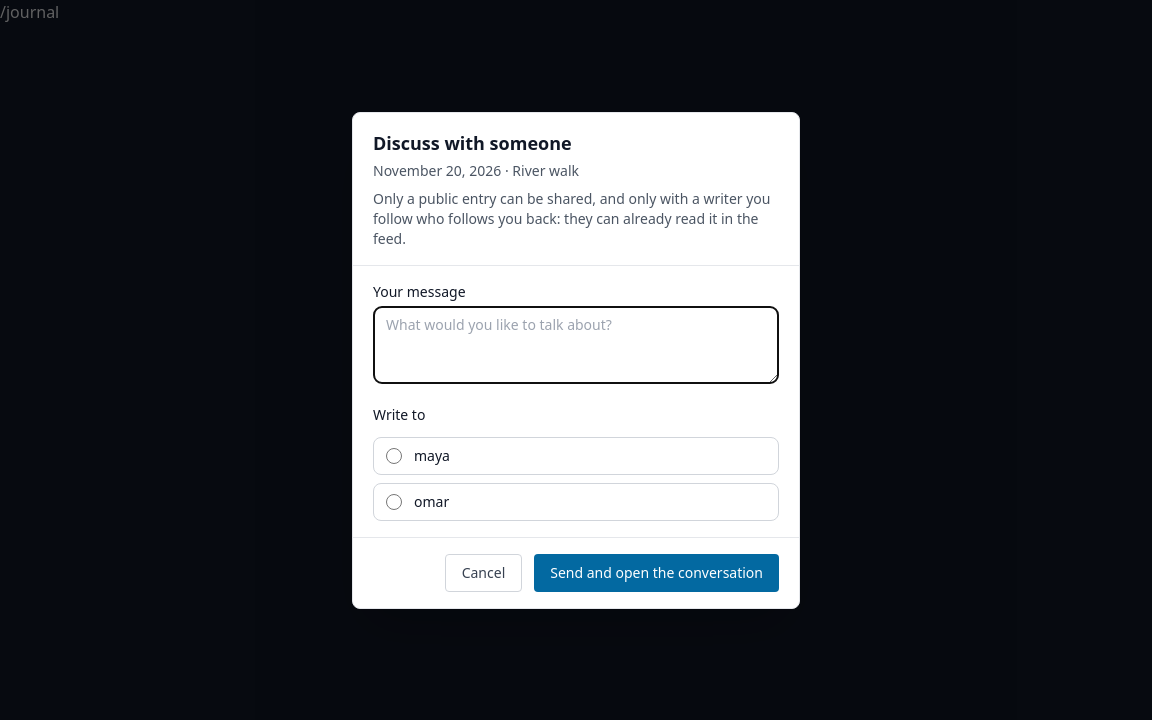
Scenario: DiscussWithSomeoneDialog › keeps the dialog open and says why when the message could not be sent
Click the radio button labelled "maya" at (394, 456), box [386,448,402,464]
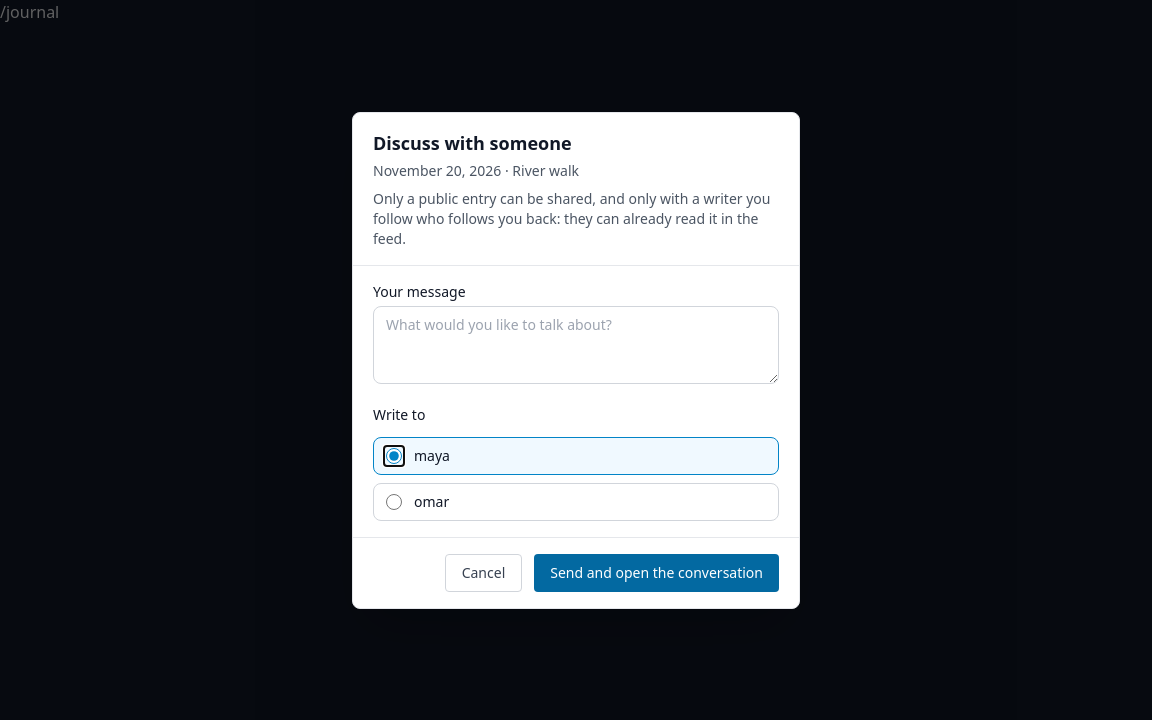
Type "Look" into the text box labelled "Your message" at (576, 344), box [373,306,779,384]
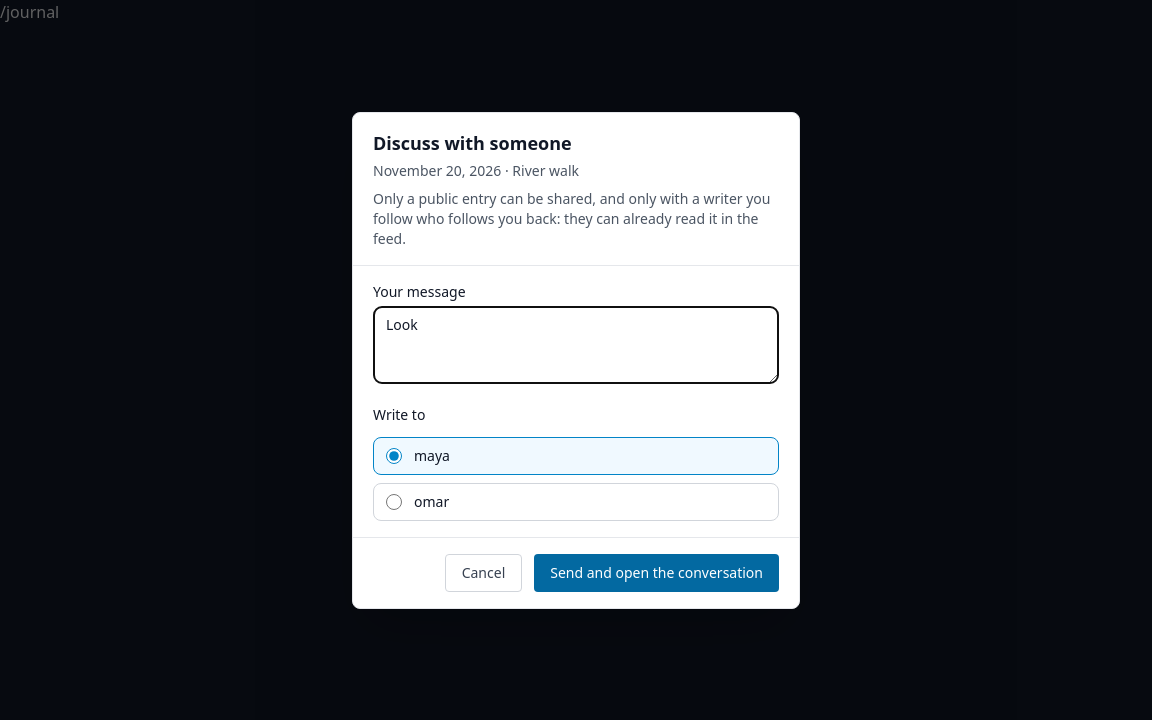
Click the button "Send and open the conversation" at (657, 572), box [534,554,779,592]
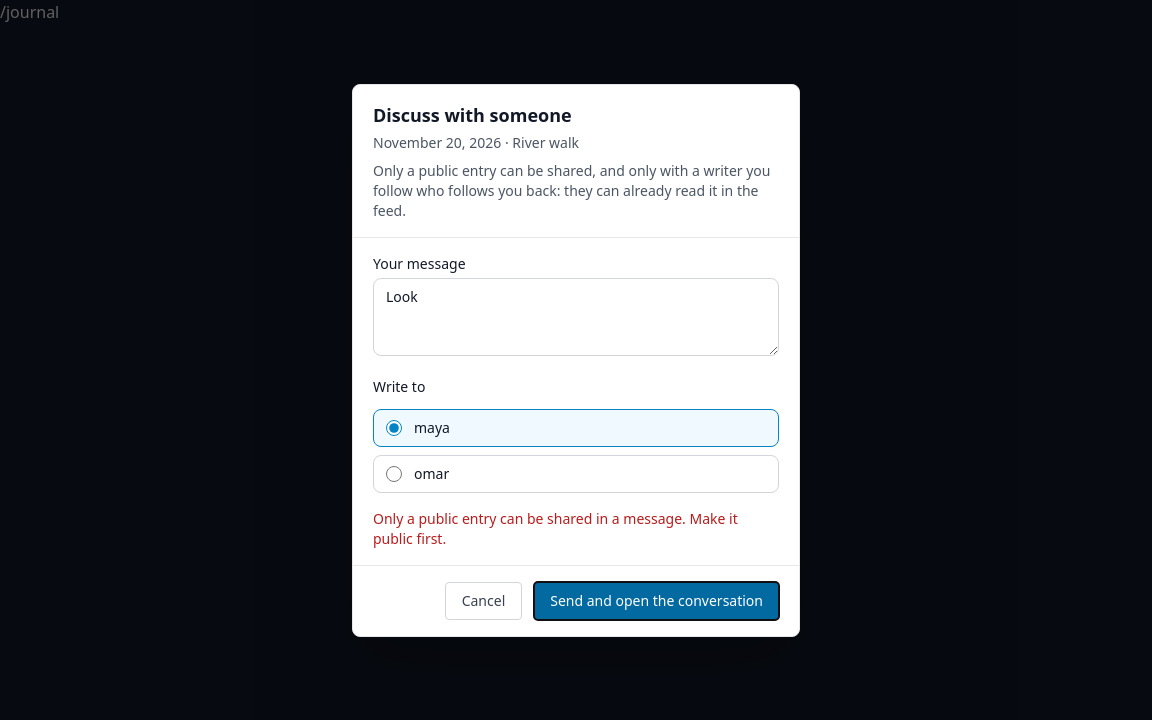
Expected: the message shows "Only a public entry can be shared in a message.", [373,508,738,548]
Click the button "Send and open the conversation" at (657, 600), box [534,582,779,620]
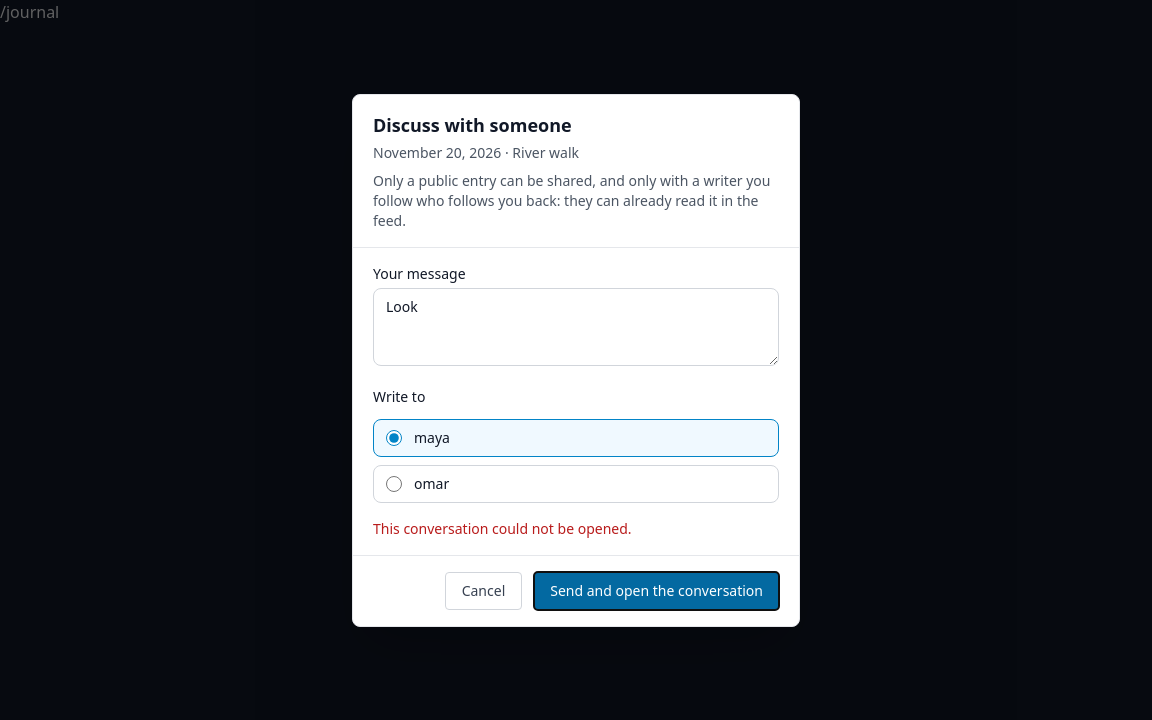
Expected: the message reads "This conversation could not be opened.", [373,518,632,538]
